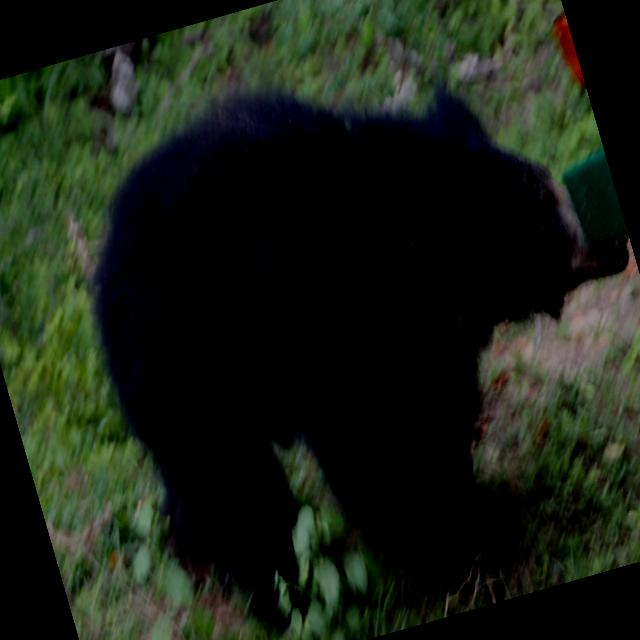Vehicle: (492, 0, 640, 553)
